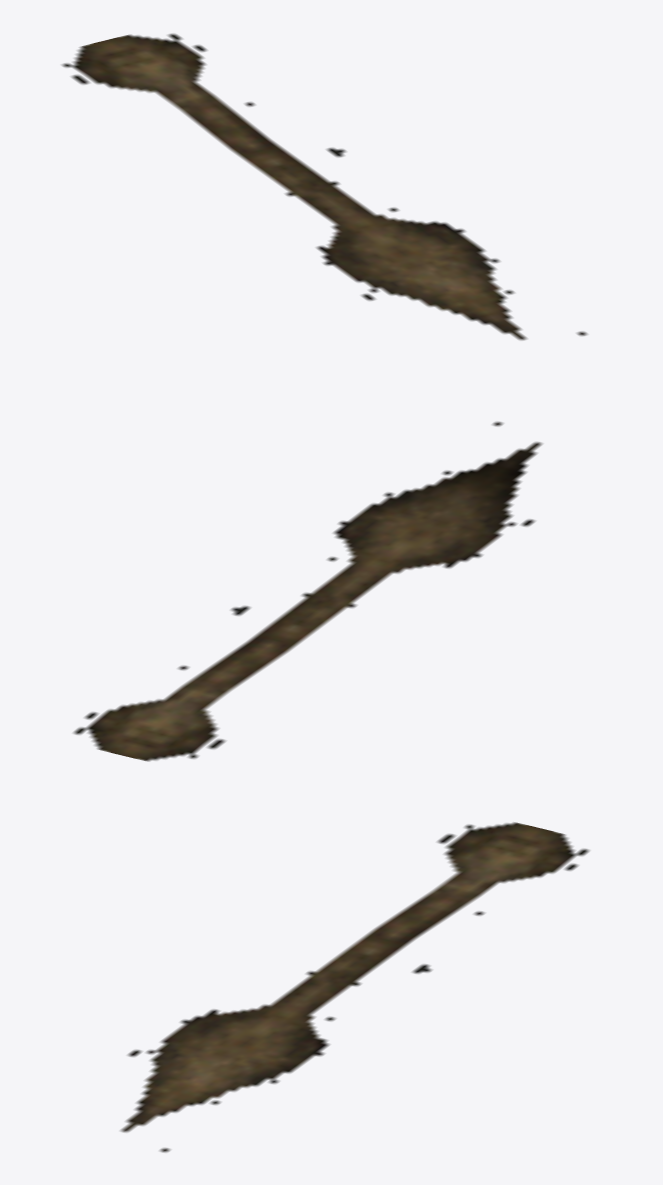
File: hkac.hrc.gltf
3 renders of one model, top to bottom at view 1: azimuth 30°, elevation 25°; view 2: azimuth 150°, elevation 25°; view 3: azimuth 330°, elevation 25°, orthographic.
Parts seen in each view (by area): view 1: hkacBone0_null; view 2: hkacBone0_null; view 3: hkacBone0_null.
Part boxes in pixels (x1,y1,x2,y2): hkacBone0_null: (62,33,587,340); hkacBone0_null: (73,421,542,761); hkacBone0_null: (120,822,589,1152).
Bounding box in the file's own units: 26.85 × 0.6139 × 100.
1 material, 1 textured.
